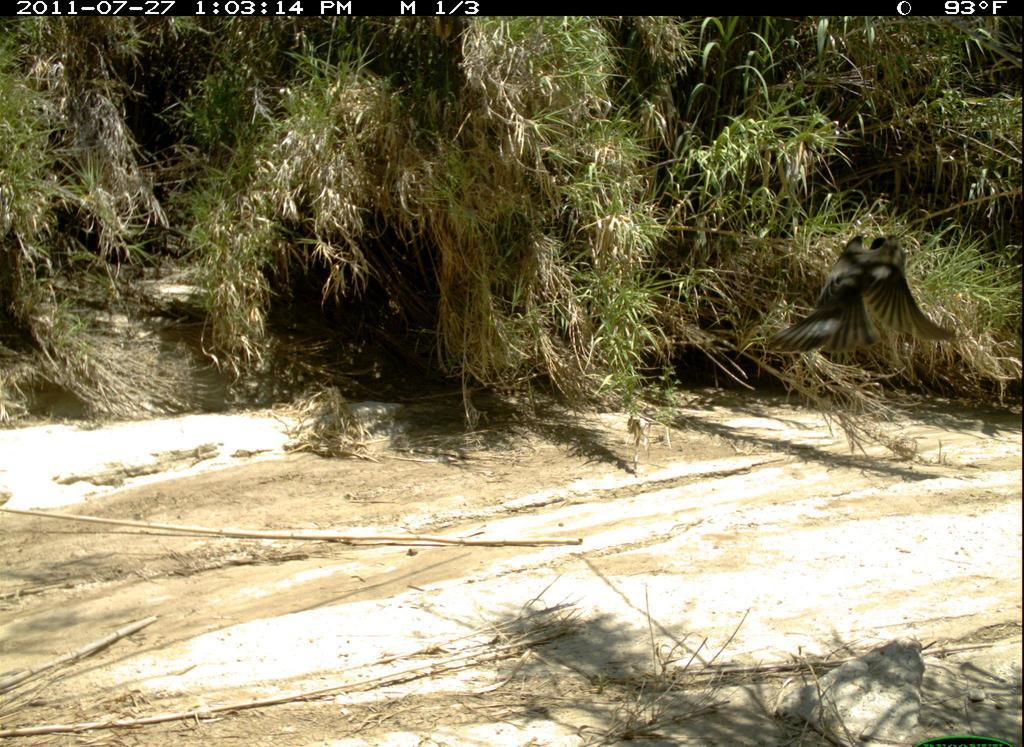bird: (772, 218, 946, 376)
